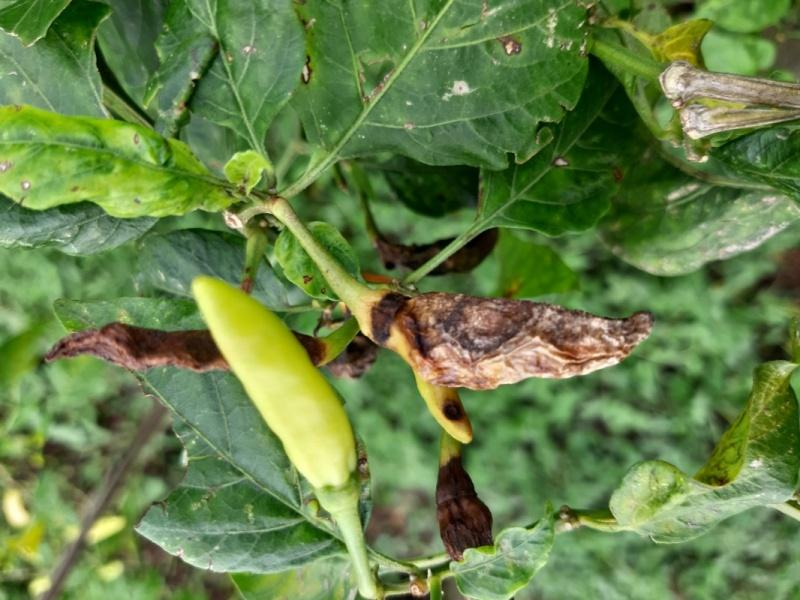antraknosa: (382, 292, 653, 392), (47, 326, 326, 372), (388, 304, 473, 444), (437, 495, 493, 572)
cabai_normal: (192, 276, 358, 486)
